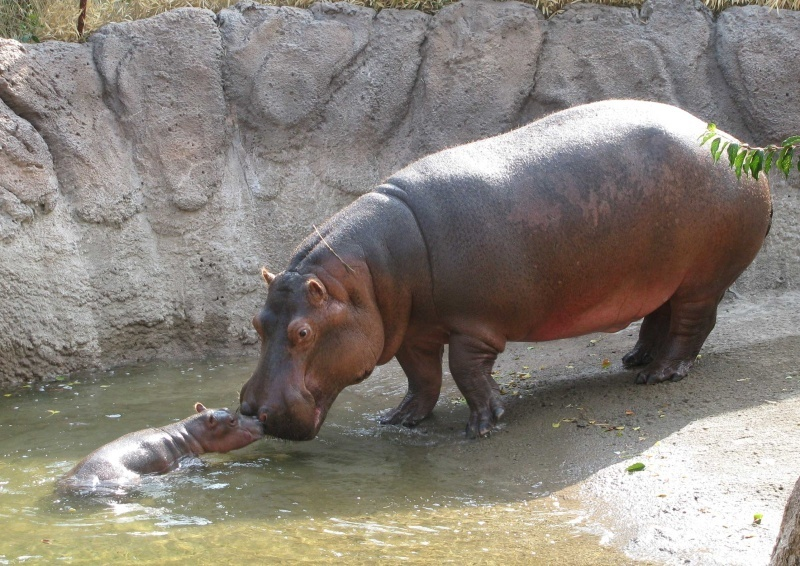hipopotamo: (239, 97, 776, 436), (43, 393, 268, 501)
